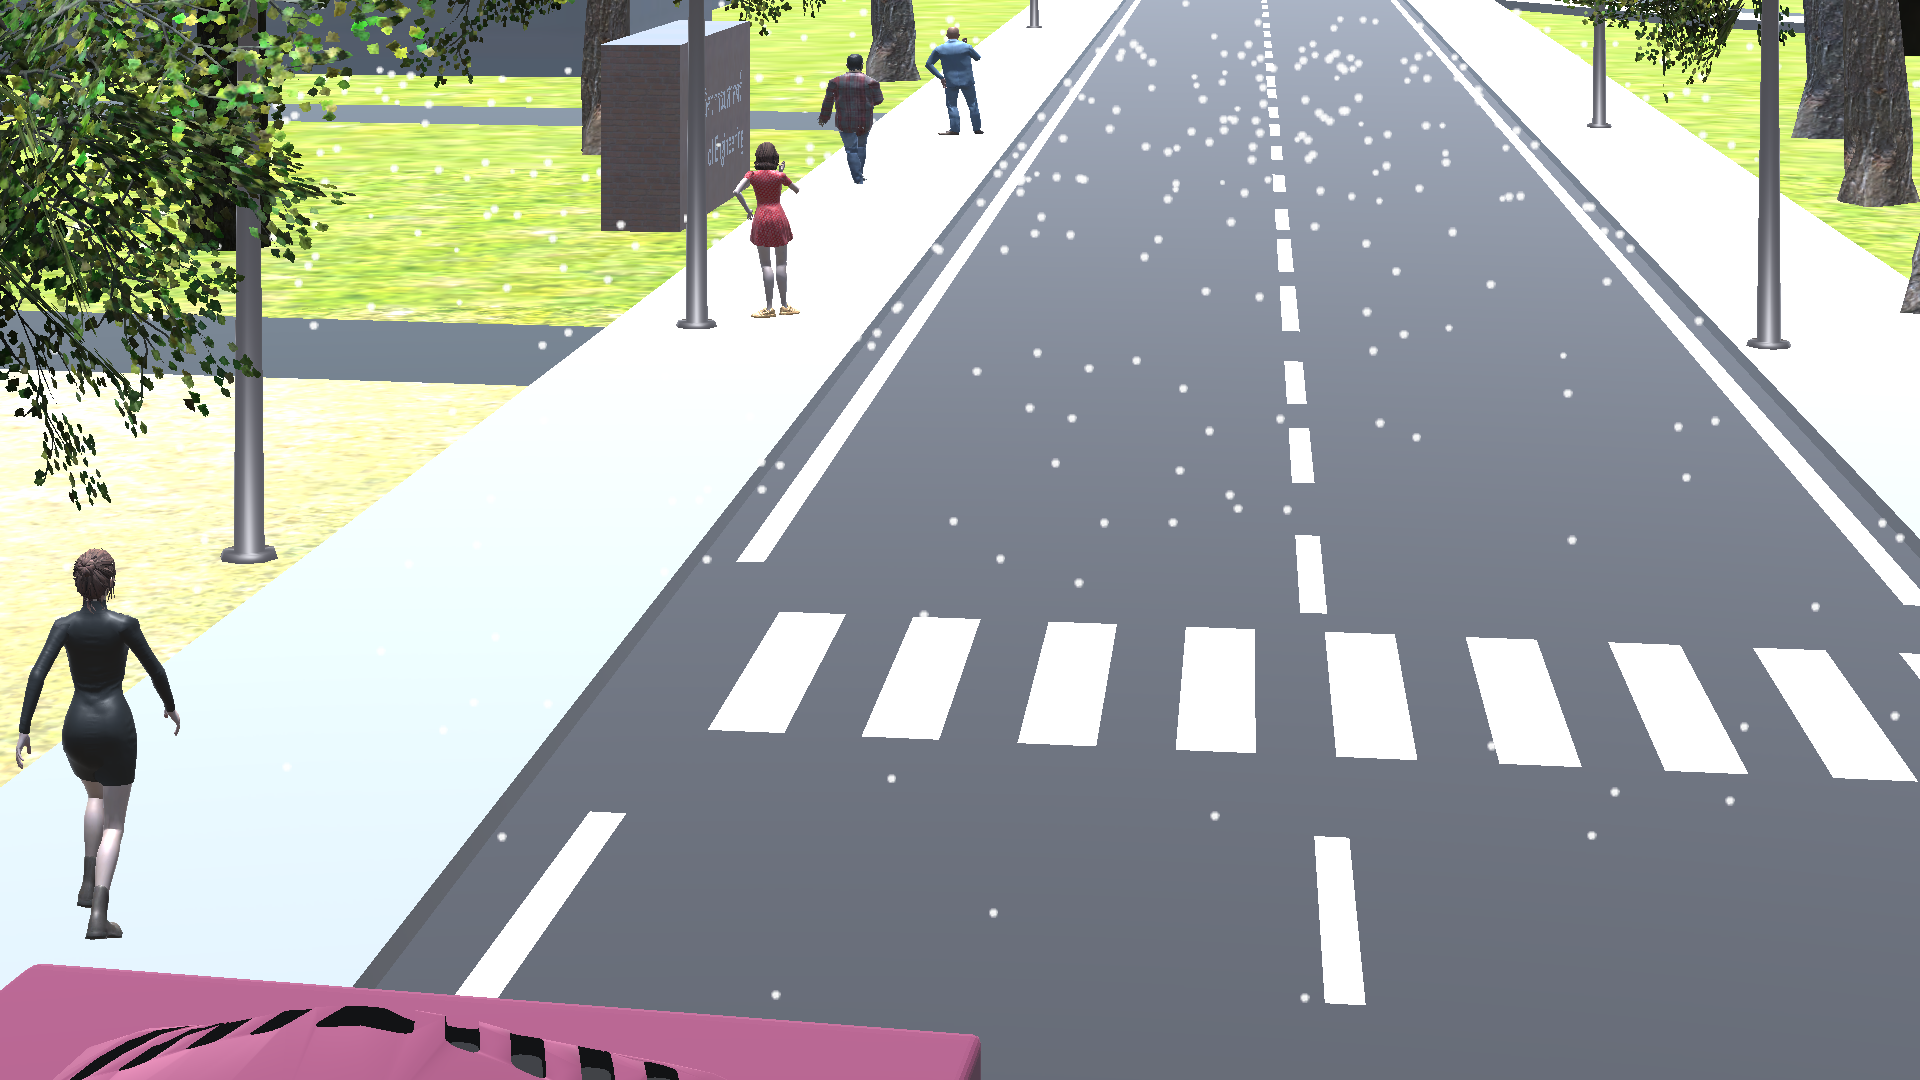pedestrian: (3, 537, 197, 950), (726, 137, 831, 327), (815, 40, 889, 202), (921, 21, 995, 155)
